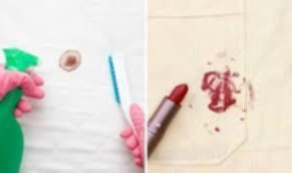blood: (57, 47, 81, 72)
lipstick: (189, 66, 243, 135), (241, 77, 261, 112), (203, 52, 240, 68)
